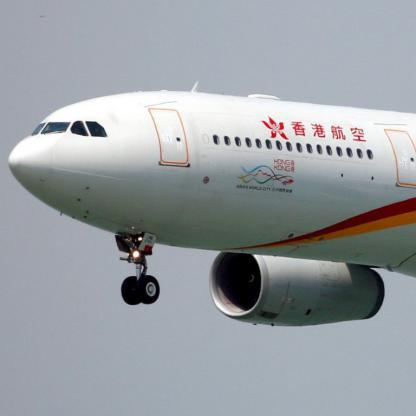CIV_Plane: (8, 81, 416, 327)
